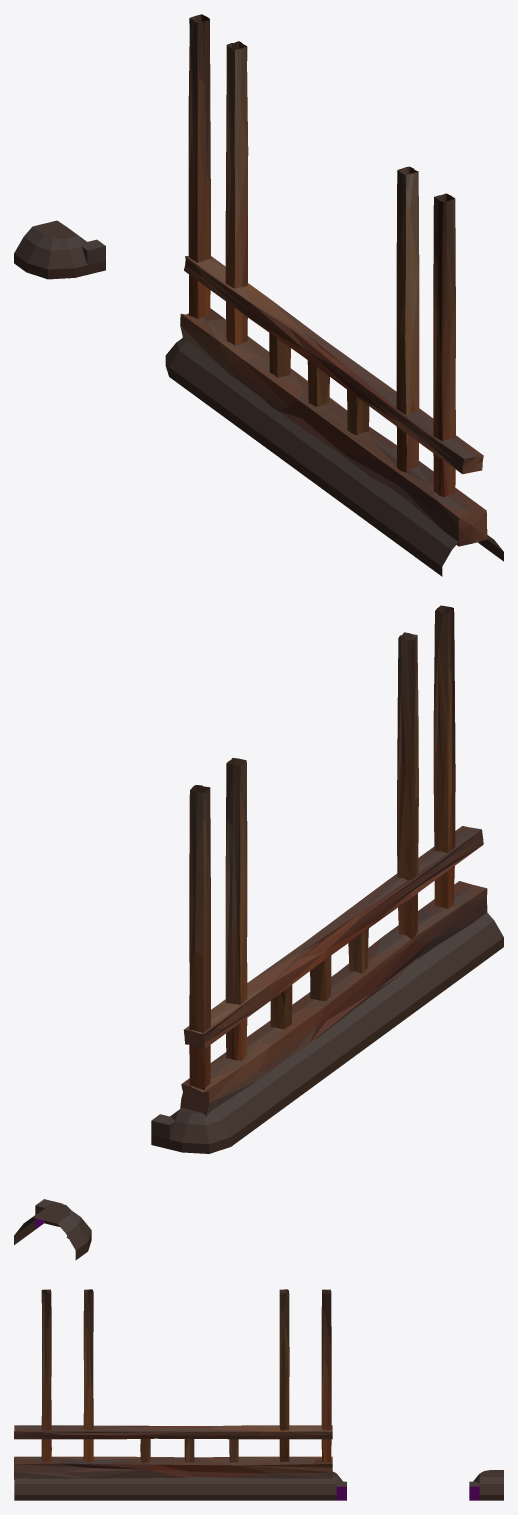
File: Wall_HomeA-StairsPathA.fbx
3 views of the same model, one above another, from view 1: azimuth 30°, elevation 25°; view 2: azimuth 150°, elevation 25°; view 3: azimuth 270°, elevation 25° (orthographic). The views are drawn at different scales.
Parts seen in each view (by area): view 1: Wall_HomeA-StairsPathA; view 2: Wall_HomeA-StairsPathA; view 3: Wall_HomeA-StairsPathA.
Boxes of the visible parts, left/top/right/bottom form: Wall_HomeA-StairsPathA: left=14, top=14, right=503, bottom=576; Wall_HomeA-StairsPathA: left=14, top=605, right=503, bottom=1260; Wall_HomeA-StairsPathA: left=14, top=1289, right=503, bottom=1500.
Bounding box in the file's own units: 50 × 271 × 600.
